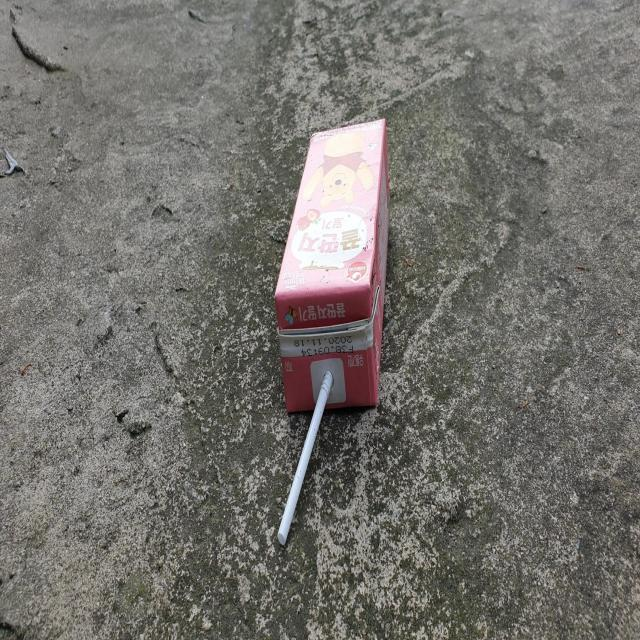paperpack: (275, 117, 389, 411)
